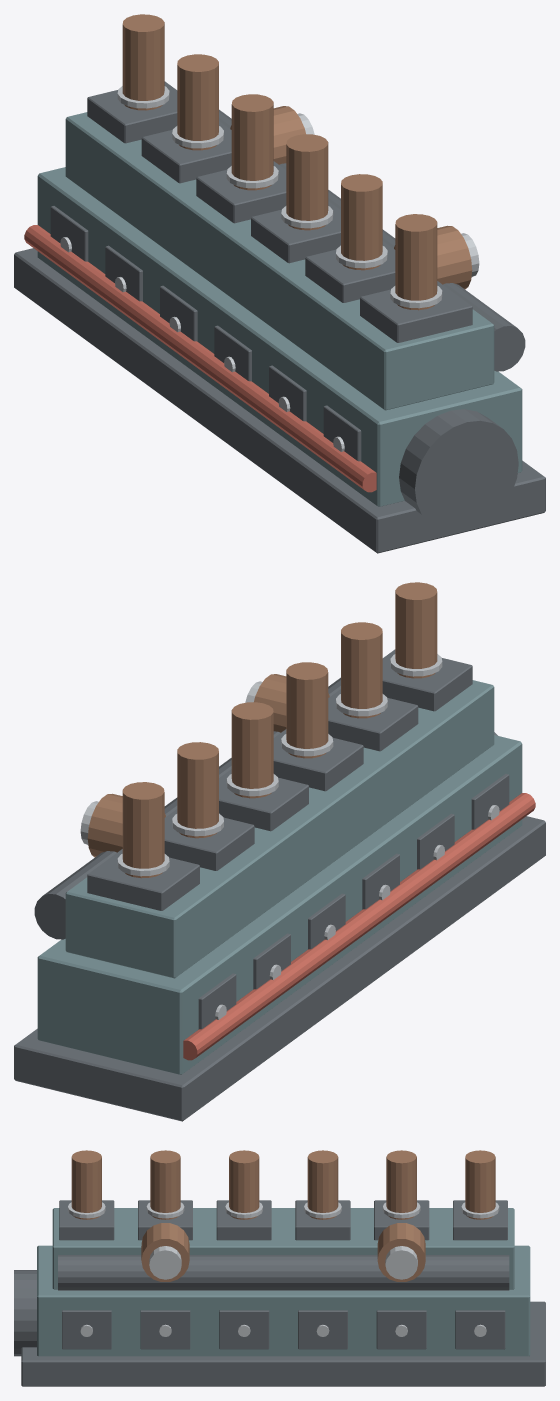
Rendered from ship_diesel_engine.glb.
3 views of the same model, one above another, from view 1: azimuth 30°, elevation 25°; view 2: azimuth 150°, elevation 25°; view 3: azimuth 270°, elevation 25° (orthographic). The views are drawn at different scales.
Visible parts, largest first — view 1: CylinderBlk, Crankcase, Bedplate, Flywheel, CoolPipe, Head_0, Riser_2, Riser_5, Riser_3, Riser_0, Riser_4, Riser_1 (+14 smaller); view 2: Crankcase, CylinderBlk, Bedplate, CoolPipe, Head_5, Riser_0, Riser_3, Riser_2, Riser_5, Riser_1, Riser_4, Head_0 (+13 smaller); view 3: Crankcase, Bedplate, ScavDrum, CylinderBlk, Riser_3, InspDoor_2.34_1, InspDoor_2.34_5, InspDoor_2.34_4, InspDoor_2.34_2, Riser_1, Riser_5, Riser_0 (+15 smaller).
Part boxes in pixels (x1=…): CylinderBlk: x1=65, y1=112, x2=494, y2=410; Crankcase: x1=37, y1=167, x2=522, y2=506; Bedplate: x1=14, y1=248, x2=545, y2=553; Flywheel: x1=399, y1=409, x2=518, y2=532; CoolPipe: x1=24, y1=225, x2=376, y2=492; Head_0: x1=360, y1=281, x2=472, y2=342; Riser_2: x1=286, y1=134, x2=328, y2=230; Riser_5: x1=122, y1=14, x2=164, y2=110; Riser_3: x1=231, y1=94, x2=273, y2=190; Riser_0: x1=395, y1=214, x2=437, y2=310; Riser_4: x1=177, y1=54, x2=218, y2=150; Riser_1: x1=341, y1=174, x2=382, y2=270; Crankcase: x1=37, y1=735, x2=522, y2=1074; CylinderBlk: x1=65, y1=680, x2=494, y2=978; Bedplate: x1=14, y1=816, x2=545, y2=1121; CoolPipe: x1=183, y1=793, x2=535, y2=1060; Head_5: x1=87, y1=849, x2=199, y2=910; Riser_0: x1=395, y1=582, x2=437, y2=678; Riser_3: x1=231, y1=702, x2=273, y2=798; Riser_2: x1=286, y1=662, x2=328, y2=758; Riser_5: x1=122, y1=782, x2=164, y2=878; Riser_1: x1=341, y1=622, x2=382, y2=718; Riser_4: x1=177, y1=742, x2=218, y2=838; Head_0: x1=382, y1=649, x2=472, y2=711; Crankcase: x1=37, y1=1245, x2=530, y2=1356; Bedplate: x1=21, y1=1301, x2=545, y2=1386; ScavDrum: x1=58, y1=1255, x2=509, y2=1290; CylinderBlk: x1=52, y1=1208, x2=514, y2=1289; Riser_3: x1=307, y1=1150, x2=338, y2=1219; InspDoor_2.34_1: x1=140, y1=1310, x2=190, y2=1349; InspDoor_2.34_5: x1=455, y1=1310, x2=505, y2=1349; InspDoor_2.34_4: x1=376, y1=1310, x2=426, y2=1349; InspDoor_2.34_2: x1=219, y1=1310, x2=269, y2=1349; Riser_1: x1=150, y1=1150, x2=180, y2=1219; Riser_5: x1=465, y1=1150, x2=495, y2=1219; Riser_0: x1=71, y1=1150, x2=101, y2=1219.
Size of the model in its own units: 6.12 by 8.43 by 20.28.
